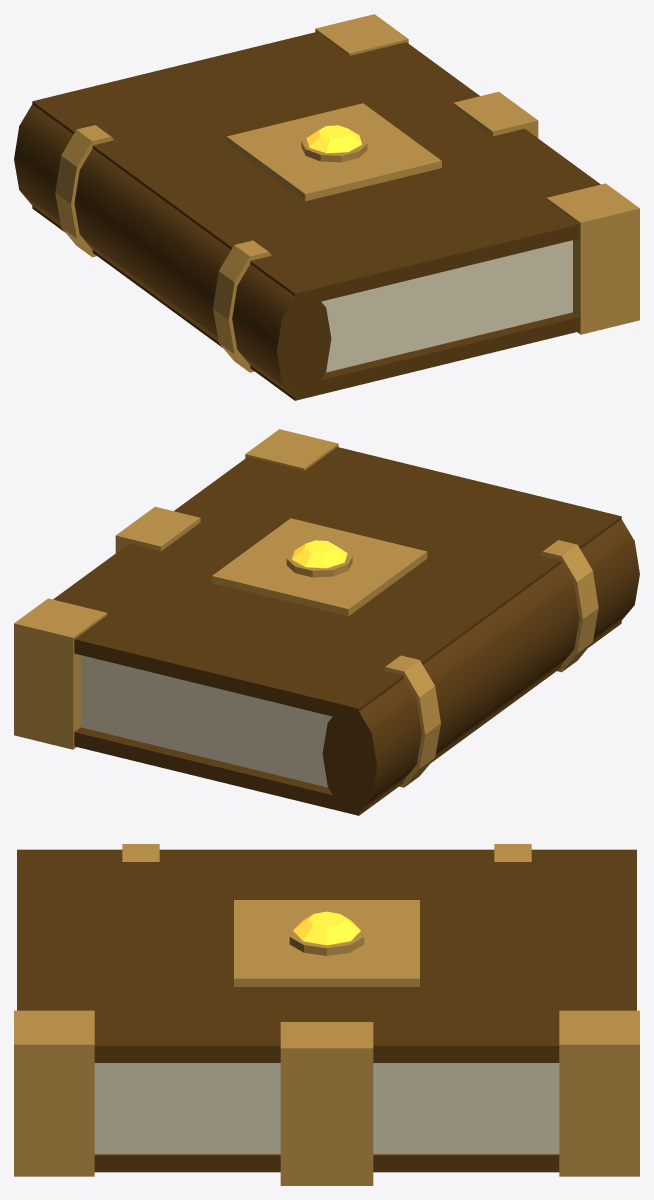
Rendered from tome_explosive.glb.
3 renders of one model, top to bottom at view 1: azimuth 30°, elevation 25°; view 2: azimuth 150°, elevation 25°; view 3: azimuth 270°, elevation 25°, orthographic. The views are drawn at different scales.
Visible parts, largest first — view 1: Tome_Explosive_Tome_explosive, Tome_Explosive_Brass, Tome_Explosive_Paper, Tome_Explosive_Gem_explosive; view 2: Tome_Explosive_Tome_explosive, Tome_Explosive_Brass, Tome_Explosive_Paper, Tome_Explosive_Gem_explosive; view 3: Tome_Explosive_Tome_explosive, Tome_Explosive_Brass, Tome_Explosive_Paper, Tome_Explosive_Gem_explosive.
Part boxes in pixels (box(x1,y1,x2,y2)): Tome_Explosive_Tome_explosive: box(14, 32, 600, 400); Tome_Explosive_Brass: box(55, 14, 639, 372); Tome_Explosive_Paper: box(321, 240, 572, 372); Tome_Explosive_Gem_explosive: box(306, 125, 361, 153); Tome_Explosive_Tome_explosive: box(53, 447, 639, 815); Tome_Explosive_Brass: box(14, 429, 598, 787); Tome_Explosive_Paper: box(81, 655, 332, 787); Tome_Explosive_Gem_explosive: box(292, 540, 347, 568); Tome_Explosive_Tome_explosive: box(17, 849, 636, 1172); Tome_Explosive_Brass: box(14, 844, 639, 1185); Tome_Explosive_Paper: box(94, 1063, 559, 1154); Tome_Explosive_Gem_explosive: box(293, 911, 360, 945).
Size of the model in its own units: 0.1655 by 0.0571 by 0.202.
